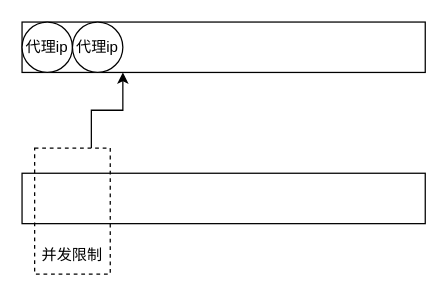
Image size: 447x296. Some labels were removed from this diagram. The box of each missing label's shape, as (x1, y1, x2, y2) in pixels:
代理产生器: (21, 21, 425, 72)
检测队列: (21, 172, 425, 224)
